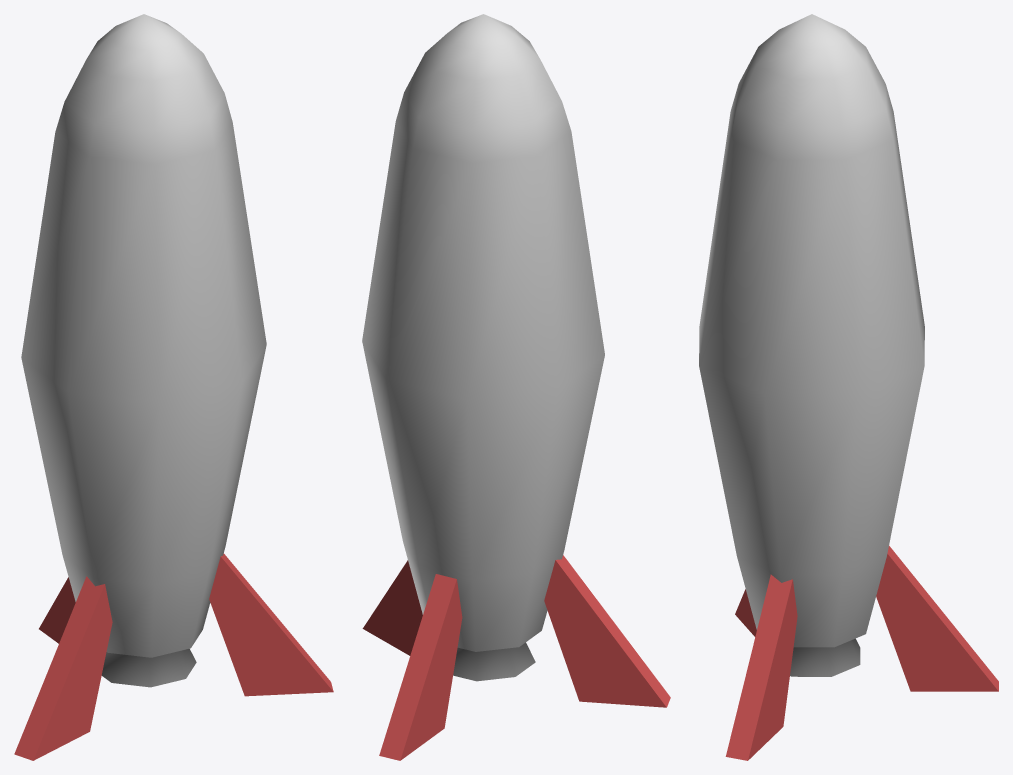
Rendered from RocketShip.fbx.
3 renders of one model, left to right at view 1: azimuth 30°, elevation 25°; view 2: azimuth 150°, elevation 25°; view 3: azimuth 270°, elevation 25°, orthographic.
Parts seen in each view (by area): view 1: RocketShip; view 2: RocketShip; view 3: RocketShip.
Boxes of the visible parts, <box> form: RocketShip: <box>14,14,333,760</box>; RocketShip: <box>362,14,670,760</box>; RocketShip: <box>699,14,998,760</box>.
Bounding box in the file's own units: 7.17 × 14.98 × 6.05.
